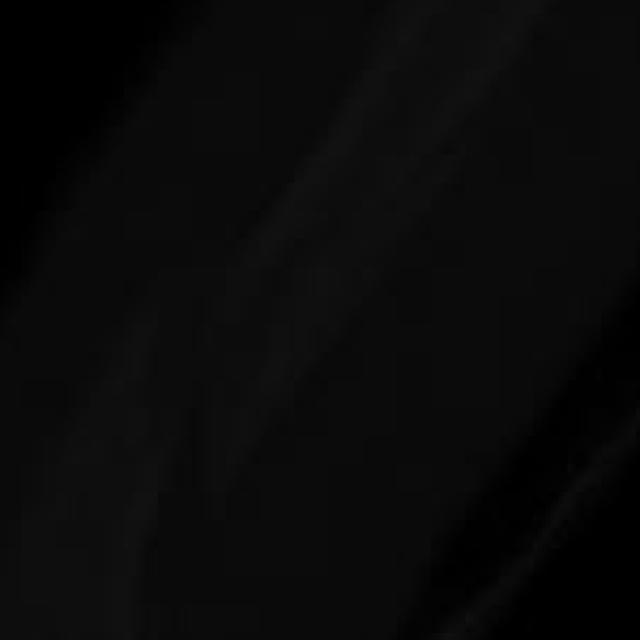fracture: (1, 1, 640, 640)
